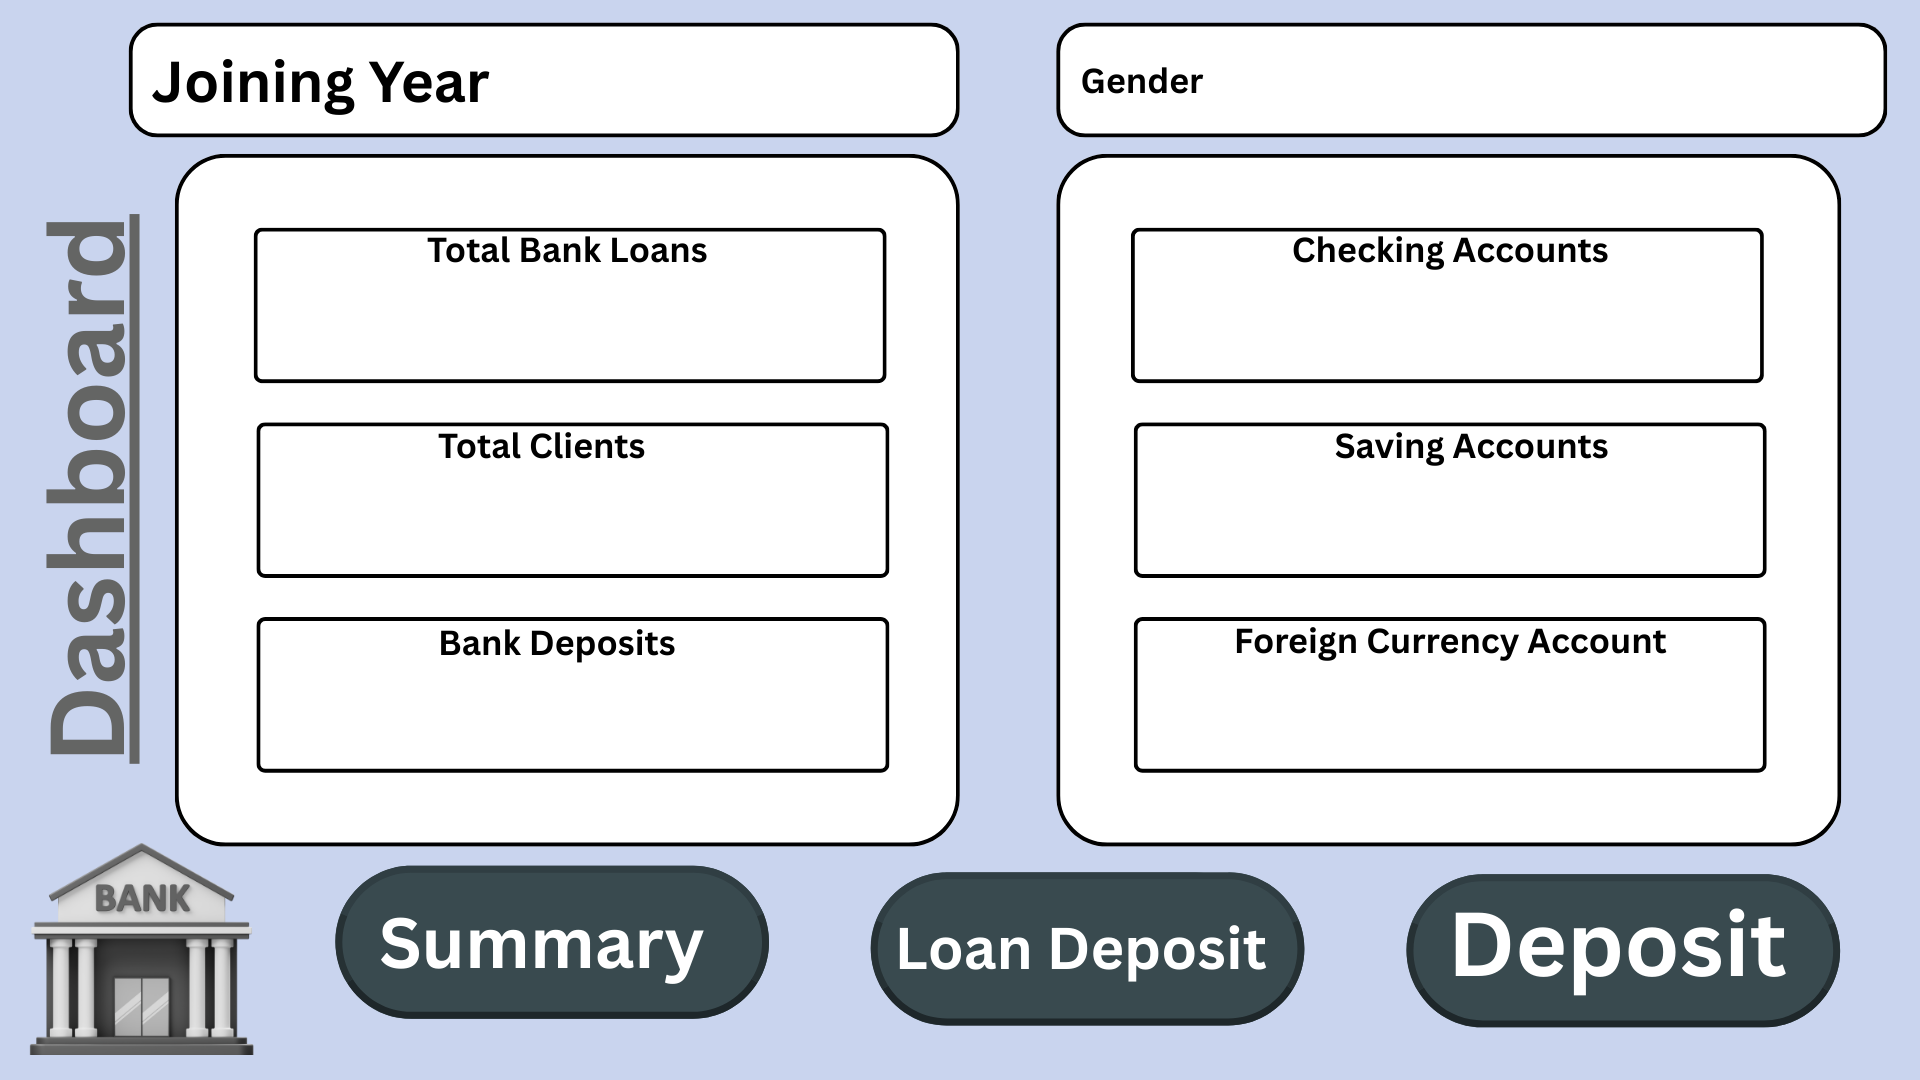

This screenshot's page, from the dashboard's own definition file:
{"tool":"powerbi","page":{"name":"Dashboard","canvas":[1920,1080],"ordinal":0},"visuals":[{"type":"card","fields":{"Values":["CountNonNull(Banking.Name)"]},"box":[314.9,485.8,461.1,65.9],"z":0},{"type":"card","fields":{"Values":["Banking.Total loan"]},"box":[265.5,284,588.7,70],"z":1000},{"type":"card","fields":{"Values":["Banking.Total Deposit"]},"box":[314.9,677.2,461.1,65.9],"z":2000},{"type":"card","fields":{"Values":["Sum(Banking.Checking Accounts)"]},"box":[1214.4,286.1,461.1,65.9],"z":3000},{"type":"card","fields":{"Values":["Sum(Banking.Saving Accounts)"]},"box":[1214.4,485.8,461.1,65.9],"z":4000},{"type":"card","fields":{"Values":["Sum(Banking.Foreign Currency Account)"]},"box":[1214.4,677.2,461.1,65.9],"z":5000},{"type":"slicer","fields":{"Values":["Banking.GenderId"]},"box":[1202.1,35,679.2,88.5],"z":6000},{"type":"slicer","title":"Joining Year","fields":{"Values":["Banking.Joined Bank.Variation.Date Hierarchy.Year"]},"box":[490,24,462,110],"z":7000},{"type":"actionButton","box":[329.4,854,447.2,169.3],"z":8000},{"type":"actionButton","box":[863.2,854,447.2,169.3],"z":9000},{"type":"actionButton","box":[1395.1,859.5,447.2,169.3],"z":10000}]}

Visuals, with their boxes in screenshot pixels (x1, y1, x2, y2), scaled from the page's 1920x1080 canvas onto the 1920x1080 screenshot:
card - CountNonNull(Banking.Name): [left=315, top=486, right=776, bottom=552]
card - Banking.Total loan: [left=266, top=284, right=854, bottom=354]
card - Banking.Total Deposit: [left=315, top=677, right=776, bottom=743]
card - Sum(Banking.Checking Accounts): [left=1214, top=286, right=1676, bottom=352]
card - Sum(Banking.Saving Accounts): [left=1214, top=486, right=1676, bottom=552]
card - Sum(Banking.Foreign Currency Account): [left=1214, top=677, right=1676, bottom=743]
slicer - Banking.GenderId: [left=1202, top=35, right=1881, bottom=124]
"Joining Year" slicer: [left=490, top=24, right=952, bottom=134]
actionButton: [left=329, top=854, right=777, bottom=1023]
actionButton: [left=863, top=854, right=1310, bottom=1023]
actionButton: [left=1395, top=860, right=1842, bottom=1029]
